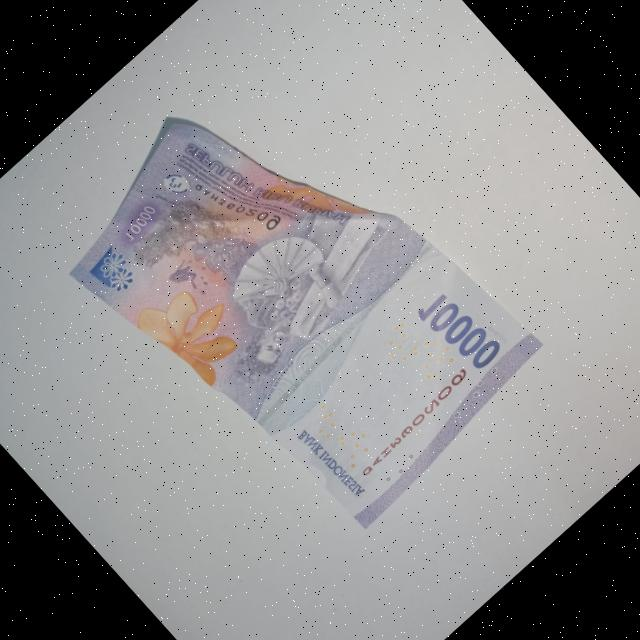10K: (27, 23, 564, 571)
